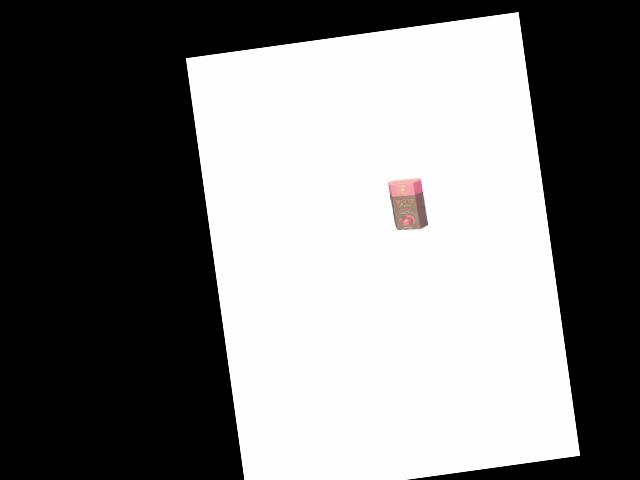chocolate: (386, 174, 430, 237)
